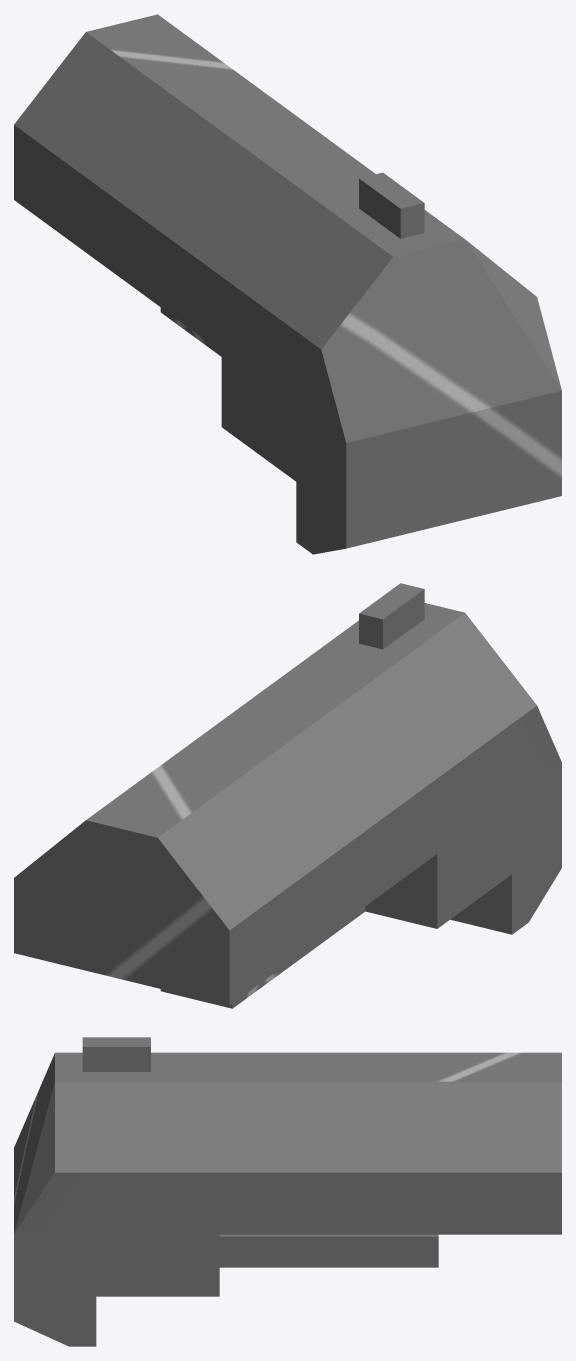
File: FSP-S6-Bolt.obj
3 views of the same model, one above another, from view 1: azimuth 30°, elevation 25°; view 2: azimuth 150°, elevation 25°; view 3: azimuth 270°, elevation 25° (orthographic). The views are drawn at different scales.
Parts seen in each view (by area): view 1: FSP-S6-Bolt; view 2: FSP-S6-Bolt; view 3: FSP-S6-Bolt.
Part boxes in pixels (bbox=[...]): FSP-S6-Bolt: bbox=[14, 14, 561, 554]; FSP-S6-Bolt: bbox=[14, 583, 561, 1008]; FSP-S6-Bolt: bbox=[14, 1037, 561, 1346].
Size of the model in its own units: 0.1501 by 0.2102 by 0.4003.
